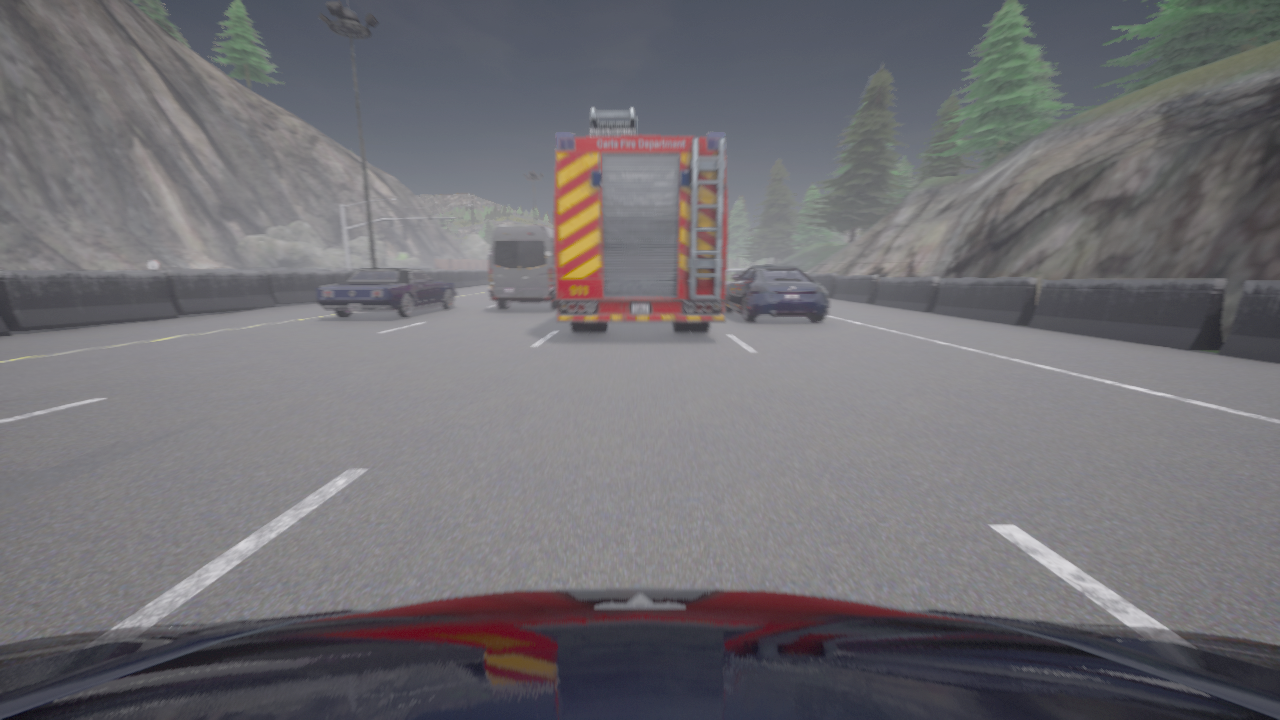cyclist: (0, 588, 1279, 719), (553, 109, 727, 333), (316, 269, 456, 318), (724, 266, 828, 321), (489, 225, 556, 309)
